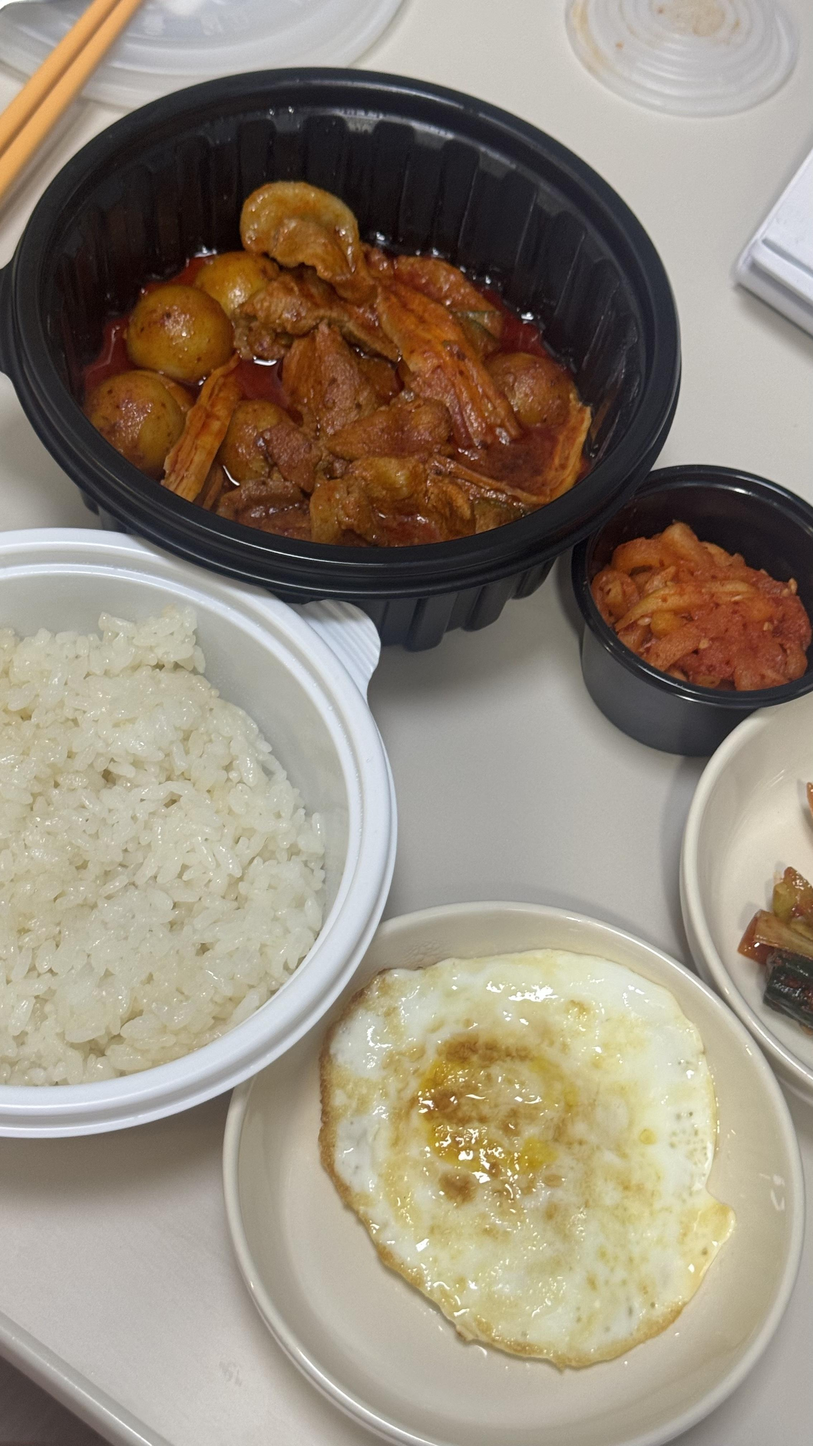Lunch Box: (0, 70, 680, 649), (225, 906, 800, 1446), (0, 529, 396, 1137), (572, 466, 813, 754), (680, 695, 813, 1102), (85, 0, 403, 108)
